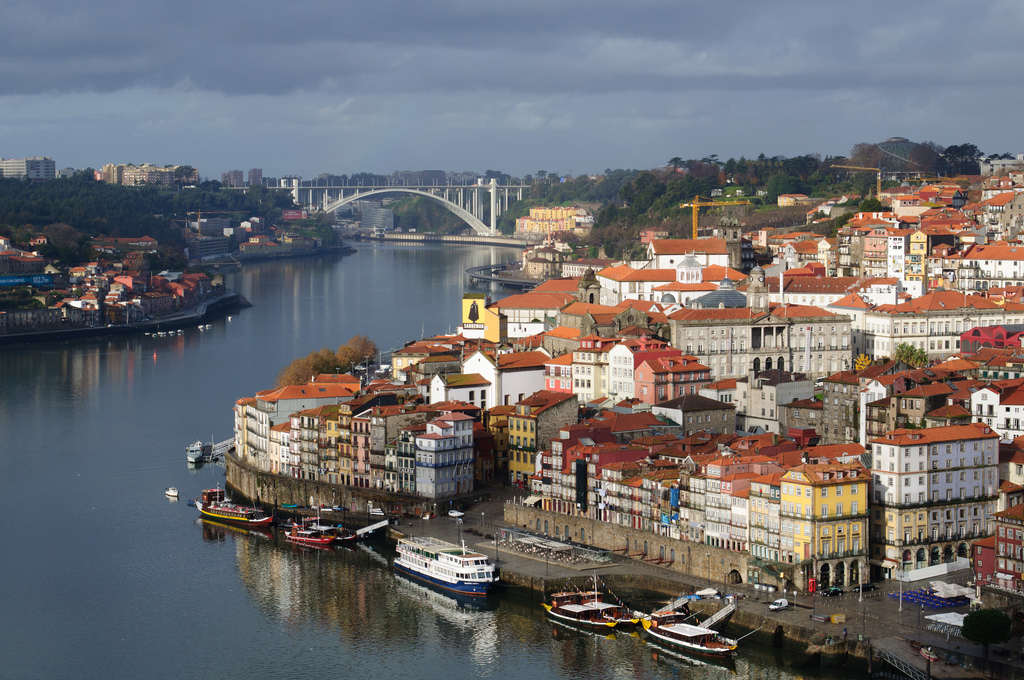arrabida: (221, 177, 530, 237)
